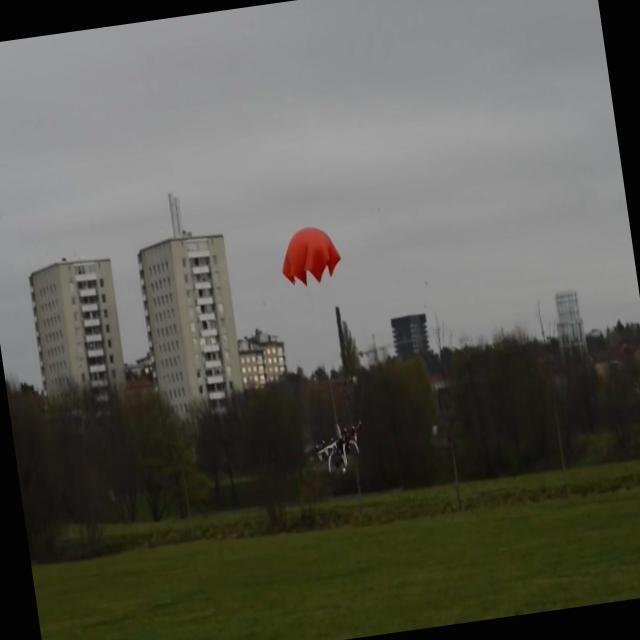drone: (310, 418, 370, 478)
